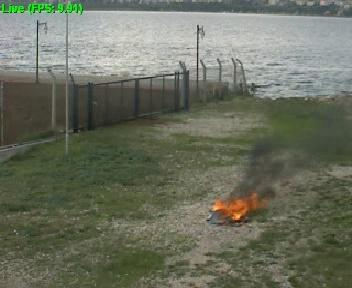fire: (211, 196, 254, 218)
smoke: (275, 119, 342, 157), (247, 146, 279, 191)
